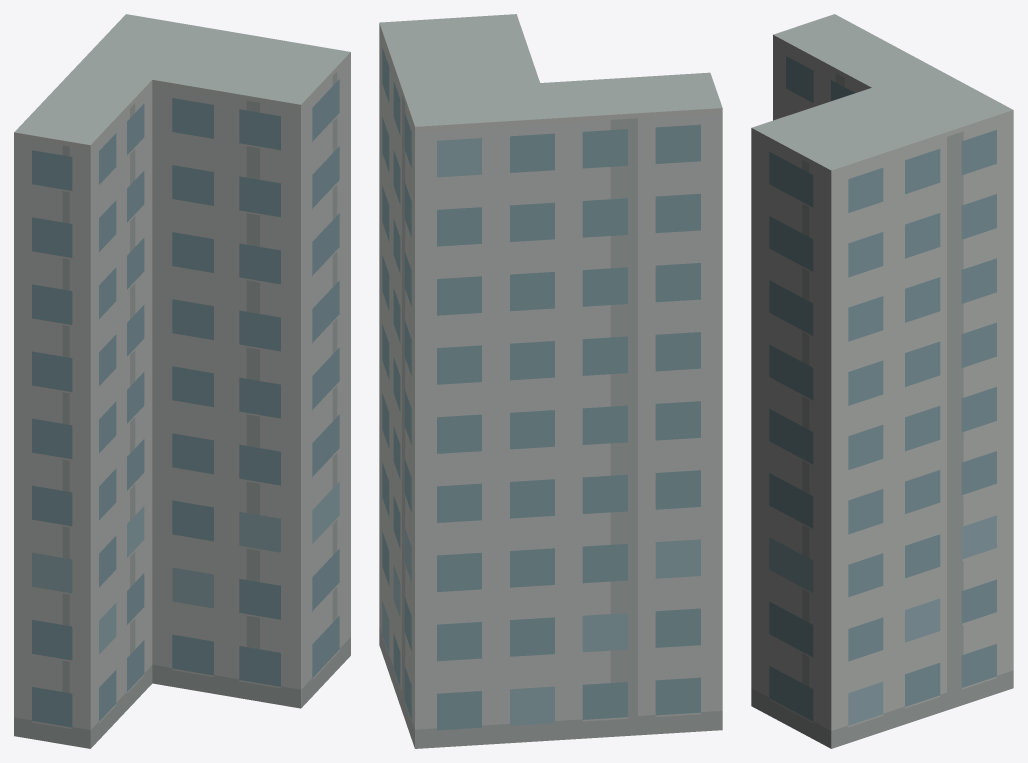
File: residential-cd8d4c64-318e-4337-8f93-b96ee38e4193.glb
The picture shows the model from 3 angles, left to right: view 1: azimuth 30°, elevation 25°; view 2: azimuth 150°, elevation 25°; view 3: azimuth 270°, elevation 25°; orthographic projection. The views are drawn at different scales.
Parts seen in each view (by area): view 1: residential-cd8d4c64-318e-4337-8f93-b96ee38e4193.tmp; view 2: residential-cd8d4c64-318e-4337-8f93-b96ee38e4193.tmp; view 3: residential-cd8d4c64-318e-4337-8f93-b96ee38e4193.tmp.
Boxes of the visible parts, x1,y1,x2,y2 form: residential-cd8d4c64-318e-4337-8f93-b96ee38e4193.tmp: (14, 14, 350, 748); residential-cd8d4c64-318e-4337-8f93-b96ee38e4193.tmp: (379, 14, 722, 748); residential-cd8d4c64-318e-4337-8f93-b96ee38e4193.tmp: (751, 14, 1013, 748).
Size of the model in its own units: 17.43 by 30 by 12.33.
